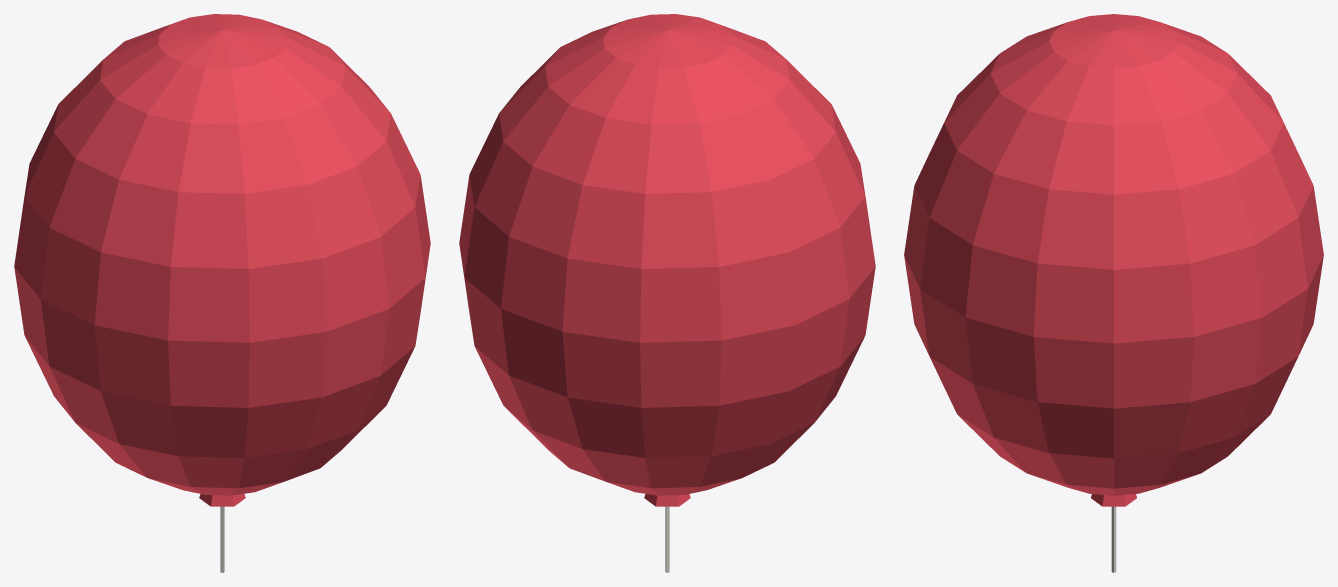
File: balloon_red.glb
3 views of the same model, side by side, from view 1: azimuth 30°, elevation 25°; view 2: azimuth 150°, elevation 25°; view 3: azimuth 270°, elevation 25° (orthographic).
Visible parts, largest first — view 1: balloon_red; view 2: balloon_red; view 3: balloon_red.
Boxes of the visible parts, x1,y1,x2,y2 form: balloon_red: (14, 14, 430, 572); balloon_red: (459, 14, 875, 572); balloon_red: (904, 14, 1323, 572).
Size of the model in its own units: 0.18 by 0.2562 by 0.18.
